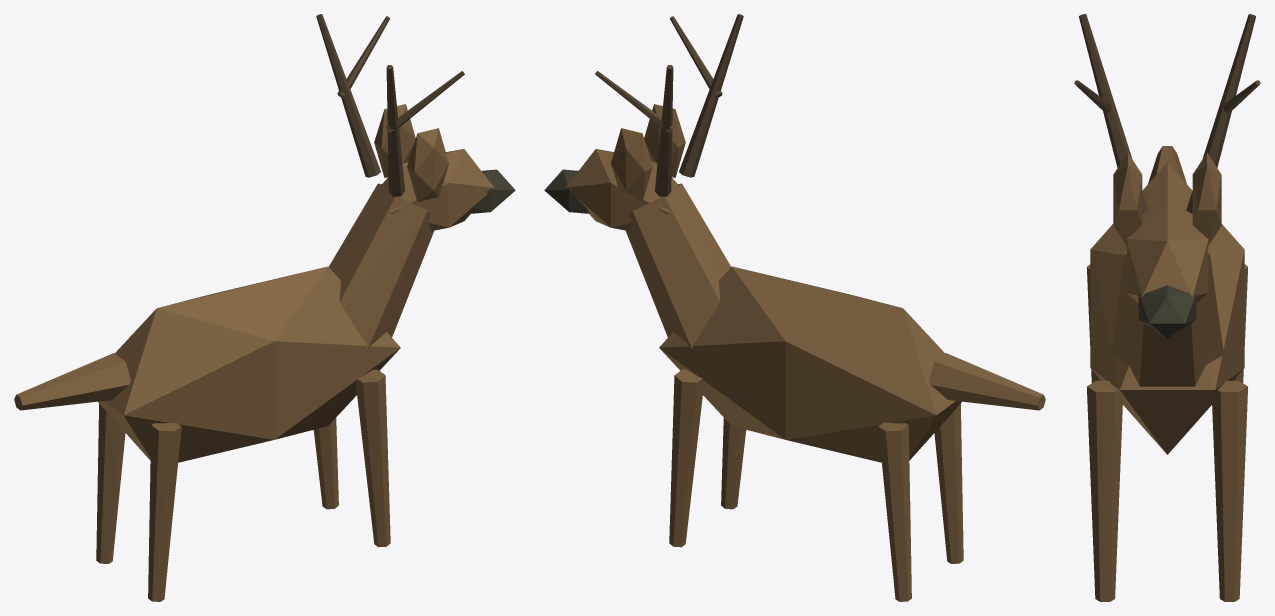
Rendered from deer.glb.
The picture shows the model from 3 angles, left to right: view 1: azimuth 30°, elevation 25°; view 2: azimuth 150°, elevation 25°; view 3: azimuth 270°, elevation 25°; orthographic projection. The views are drawn at different scales.
Parts seen in each view (by area): view 1: world-scenery/deer; view 2: world-scenery/deer; view 3: world-scenery/deer.
Part boxes in pixels (x1,y1,x2,y2): world-scenery/deer: [14, 14, 515, 601]; world-scenery/deer: [544, 14, 1045, 601]; world-scenery/deer: [1074, 14, 1260, 601].
Size of the model in its own units: 2.41 by 2.28 by 0.6589.
